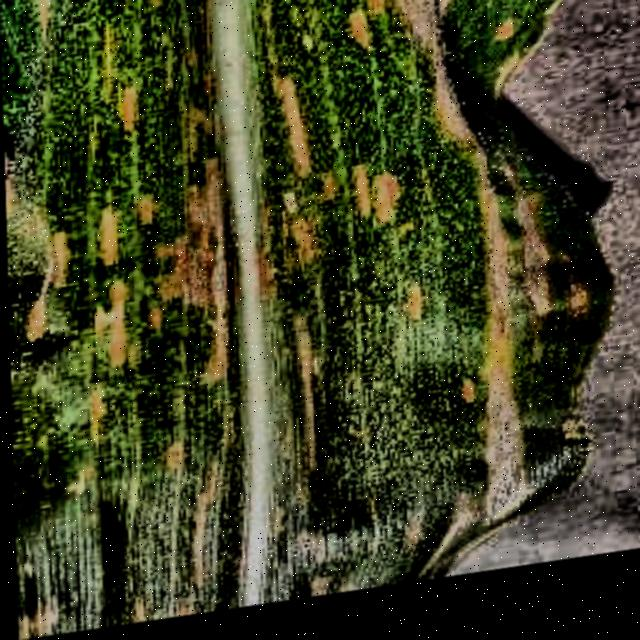gray_spot: (1, 0, 640, 640)
